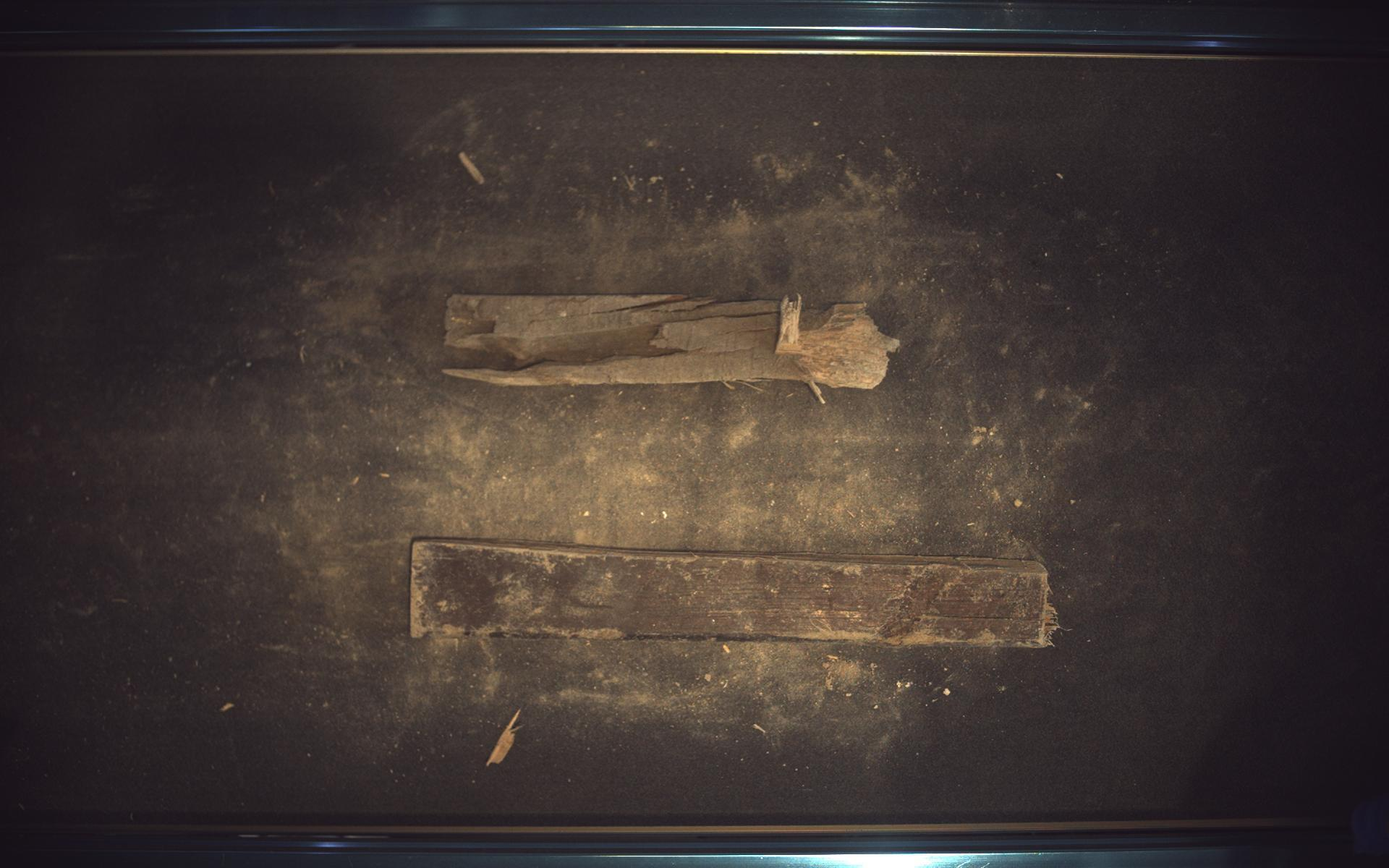wood: (410, 539, 1060, 648), (445, 294, 901, 389)
